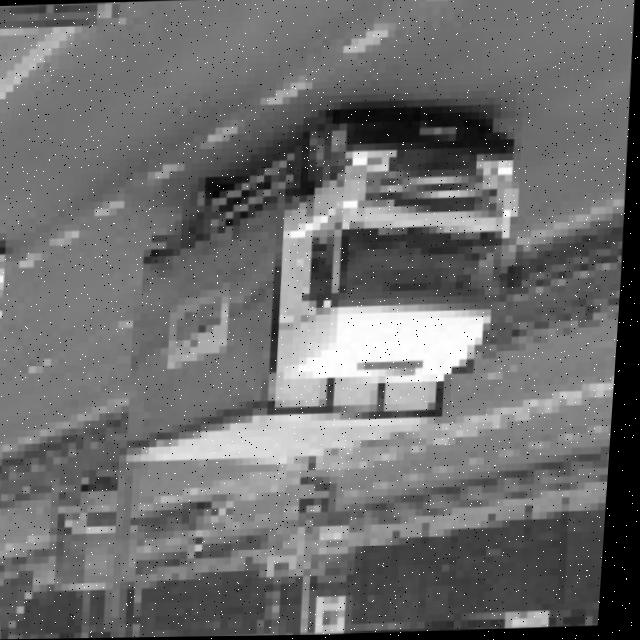truck: (258, 105, 553, 417)
